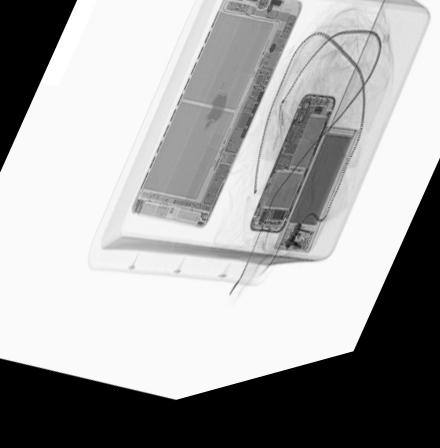Powerbank: (271, 144, 361, 271)
